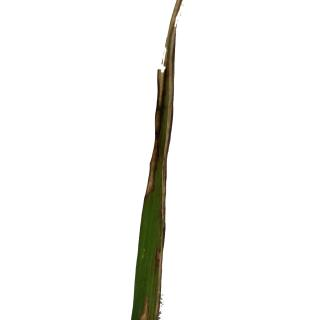Hawar-Daun: (155, 70, 175, 195)
